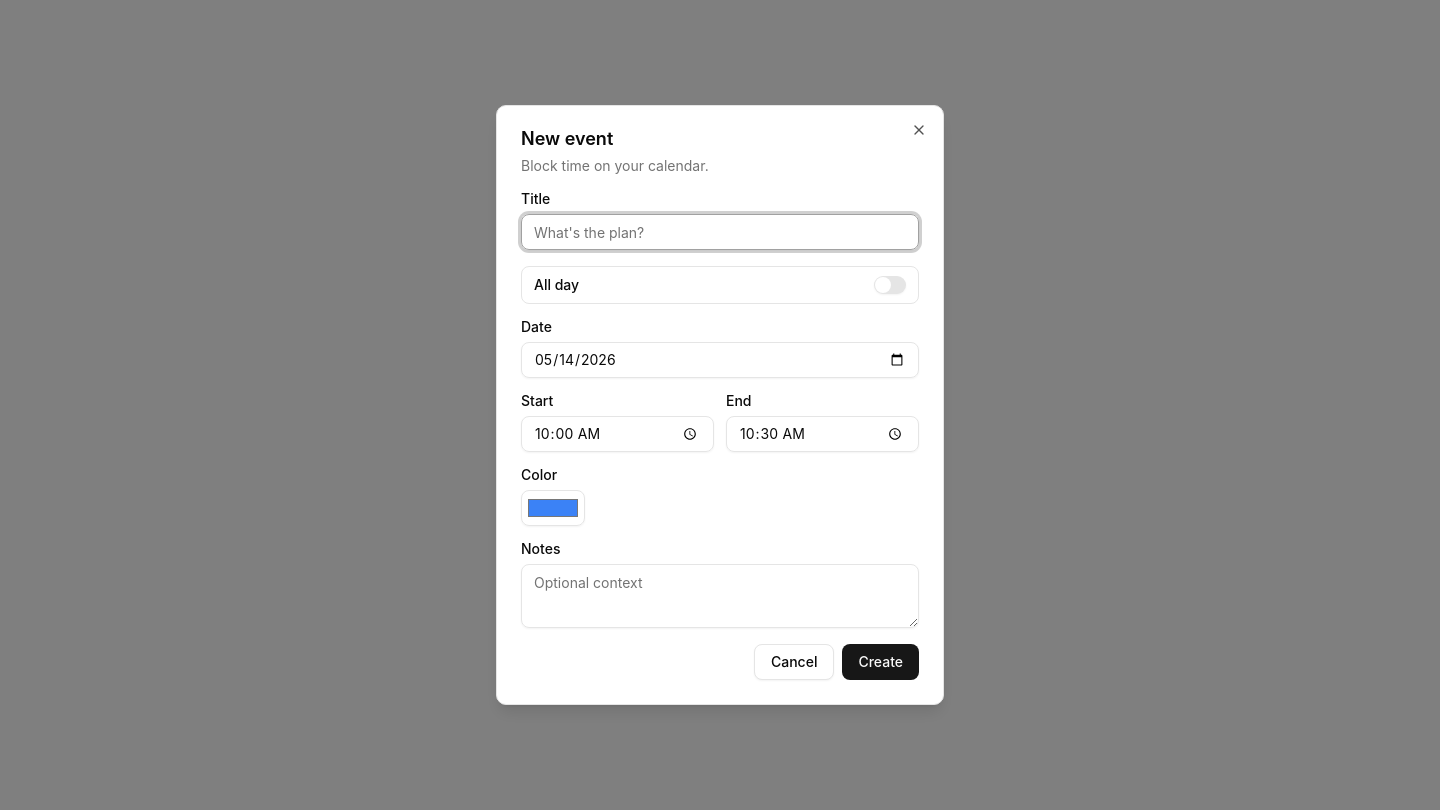
Test: EventDialog › hides time inputs when All day is toggled on
Expected: the time field labelled "Start" is shown, [521, 416, 714, 452]
Click the switch named "all day": (890, 285) [874, 276, 906, 294]
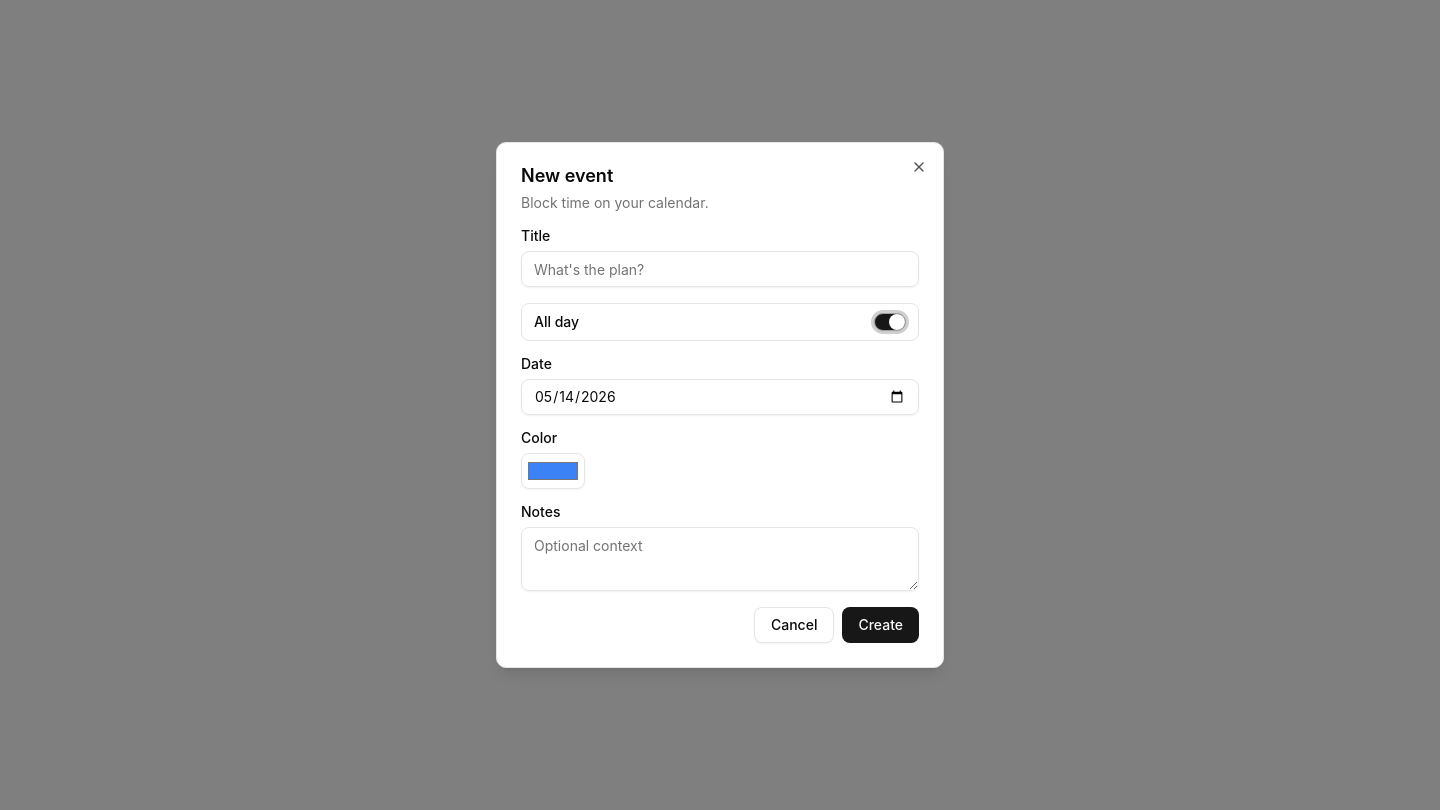
Result: the label labelled "Start" is gone
